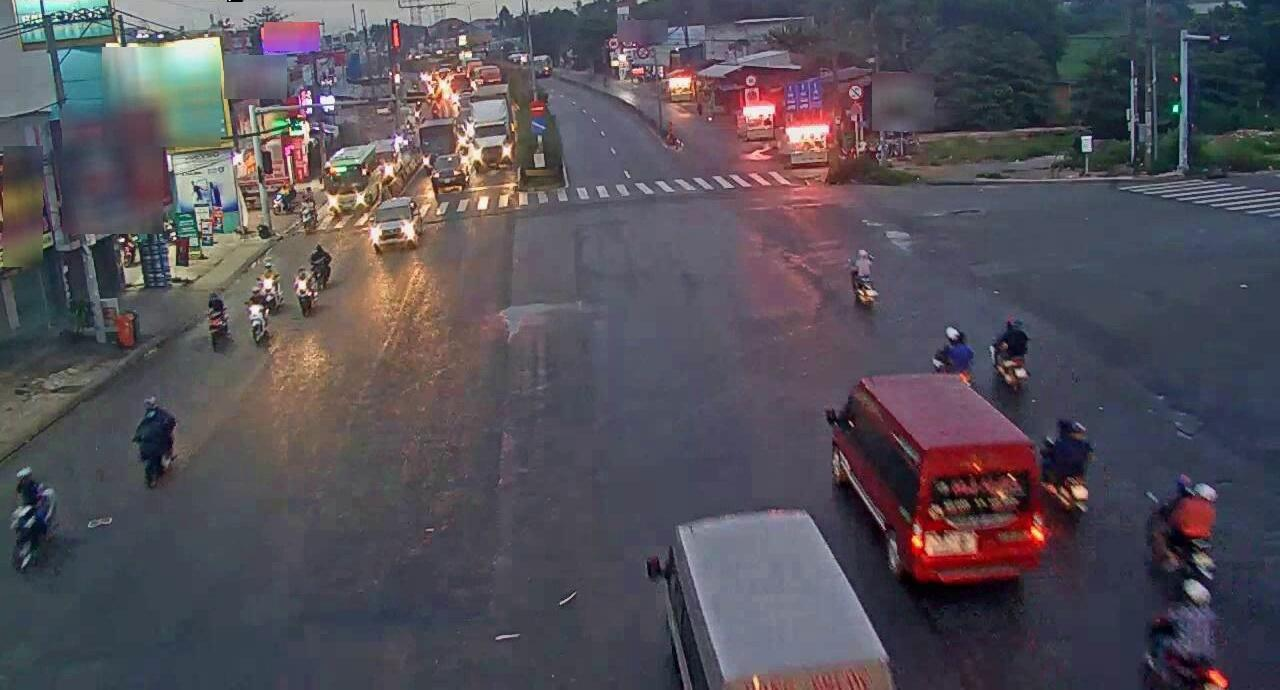xe hoi: (368, 191, 421, 251)
xe may: (0, 462, 61, 572), (132, 392, 183, 487), (849, 242, 880, 309), (205, 290, 231, 353), (244, 283, 271, 342)
xe van: (825, 367, 1042, 588), (649, 498, 895, 689)
